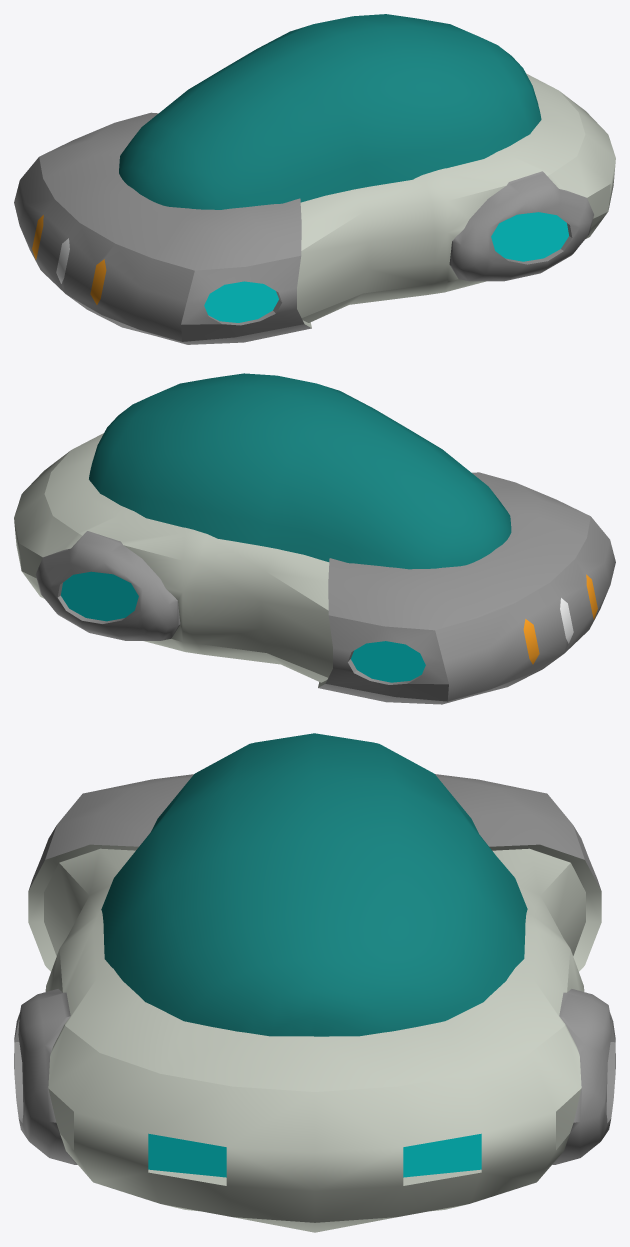
The model's file is SM_auto_4.fbx.
3 views of the same model, one above another, from view 1: azimuth 30°, elevation 25°; view 2: azimuth 150°, elevation 25°; view 3: azimuth 270°, elevation 25° (orthographic). The views are drawn at different scales.
Visible parts, largest first — view 1: SM_auto_4; view 2: SM_auto_4; view 3: SM_auto_4.
Part boxes in pixels (<box>): SM_auto_4: <box>14,14,615,344</box>; SM_auto_4: <box>14,373,615,704</box>; SM_auto_4: <box>14,733,615,1232</box>.
Size of the model in its own units: 503 by 201 by 335.
